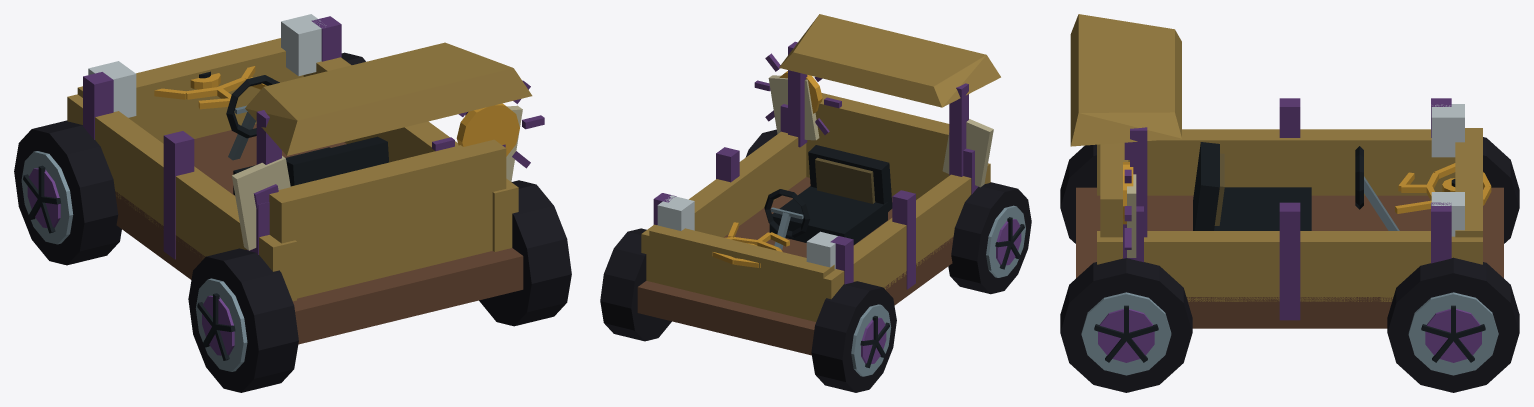
File: kart.glb
3 views of the same model, side by side, from view 1: azimuth 30°, elevation 25°; view 2: azimuth 150°, elevation 25°; view 3: azimuth 270°, elevation 25° (orthographic). The views are drawn at different scales.
Visible parts, largest first — view 1: identity-carriage-carriage-timber-coach, wheel-rear-left, wheel-front-left, wheel-rear-right, identity-carriage-driver-cockpit, identity-carriage-motif-cards, identity-carriage-motif-sun, identity-carriage-motif-eye-sigil; view 2: identity-carriage-carriage-timber-coach, identity-carriage-driver-cockpit, wheel-front-left, wheel-rear-left, wheel-front-right, identity-carriage-motif-cards, identity-carriage-motif-sun, identity-carriage-motif-eye-sigil; view 3: identity-carriage-carriage-timber-coach, wheel-rear-right, wheel-front-right, identity-carriage-driver-cockpit, wheel-rear-left, wheel-front-left, identity-carriage-motif-eye-sigil, identity-carriage-motif-sun, identity-carriage-motif-cards.
Part boxes in pixels (box(x1,y1,x2,y2)): identity-carriage-carriage-timber-coach: box(67, 14, 532, 344); wheel-rear-left: box(188, 248, 298, 392); wheel-front-left: box(14, 120, 121, 265); wheel-rear-right: box(479, 180, 571, 326); identity-carriage-driver-cockpit: box(226, 75, 388, 194); identity-carriage-motif-cards: box(232, 105, 522, 250); identity-carriage-motif-sun: box(432, 80, 544, 168); identity-carriage-motif-eye-sigil: box(154, 66, 266, 109); identity-carriage-carriage-timber-coach: box(637, 14, 1000, 355); identity-carriage-driver-cockpit: box(764, 145, 892, 250); wheel-front-left: box(811, 281, 896, 392); wheel-rear-left: box(948, 182, 1031, 294); wheel-front-right: box(600, 228, 671, 341); identity-carriage-motif-cards: box(768, 75, 993, 187); identity-carriage-motif-sun: box(754, 53, 841, 134); identity-carriage-motif-eye-sigil: box(712, 222, 789, 267); identity-carriage-carriage-timber-coach: box(1070, 14, 1503, 328); wheel-rear-right: box(1060, 258, 1192, 392); wheel-front-right: box(1387, 257, 1519, 392); identity-carriage-driver-cockpit: box(1193, 142, 1399, 230); wheel-rear-left: box(1060, 144, 1096, 243); wheel-front-left: box(1483, 137, 1519, 243); identity-carriage-motif-eye-sigil: box(1395, 163, 1491, 213); identity-carriage-motif-sun: box(1123, 142, 1133, 249); identity-carriage-motif-cards: box(1127, 174, 1136, 257).
Bounding box in the file's own units: 2.07 × 1.63 × 2.64.
